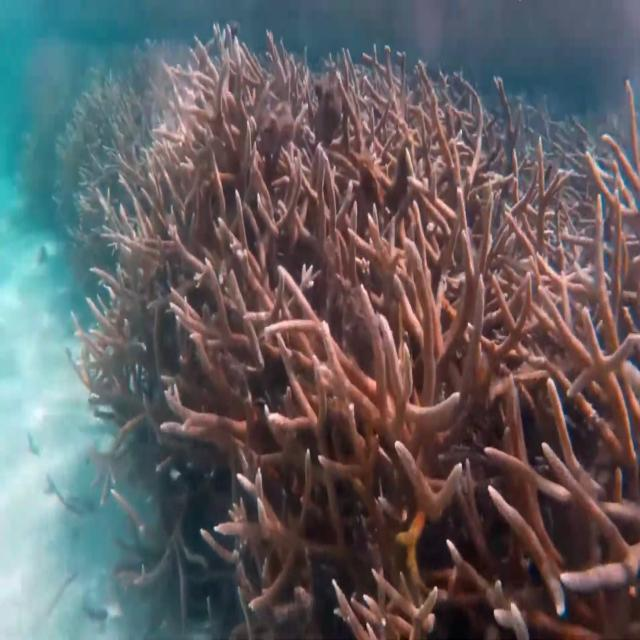Staghorn-Coral -Endangered-: (25, 19, 637, 626)
